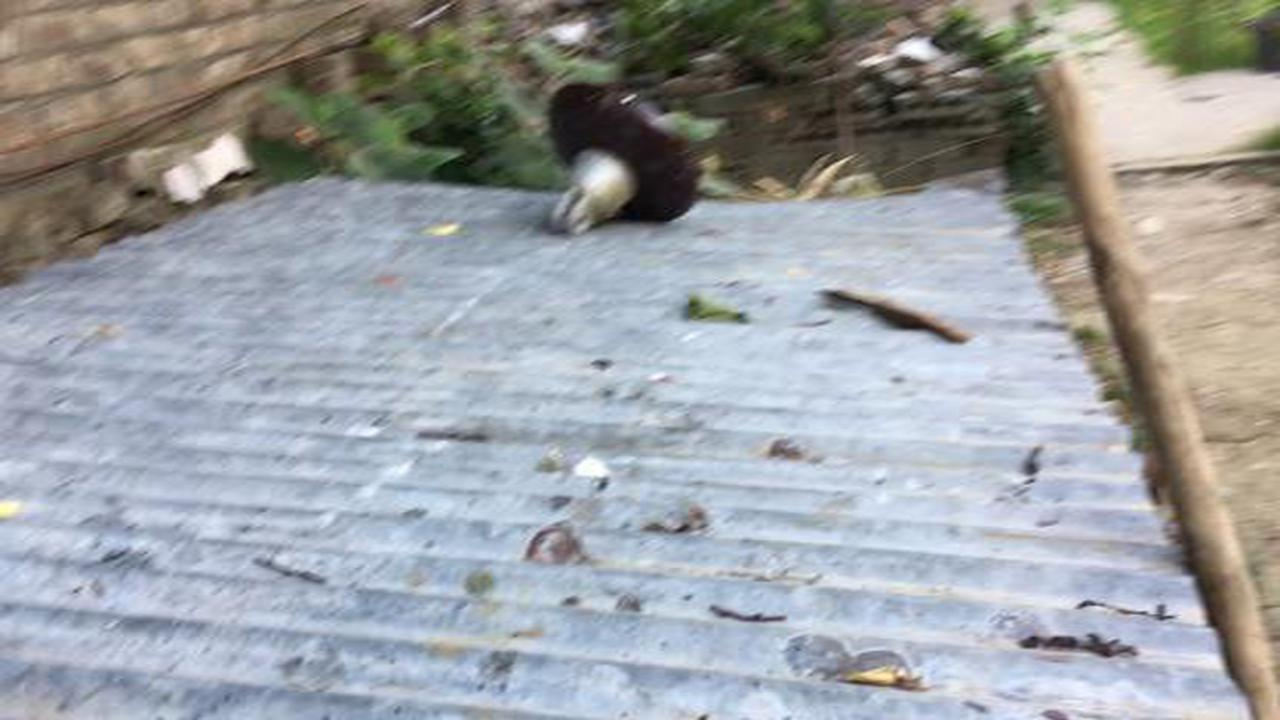insulator_disc: (532, 80, 712, 243)
